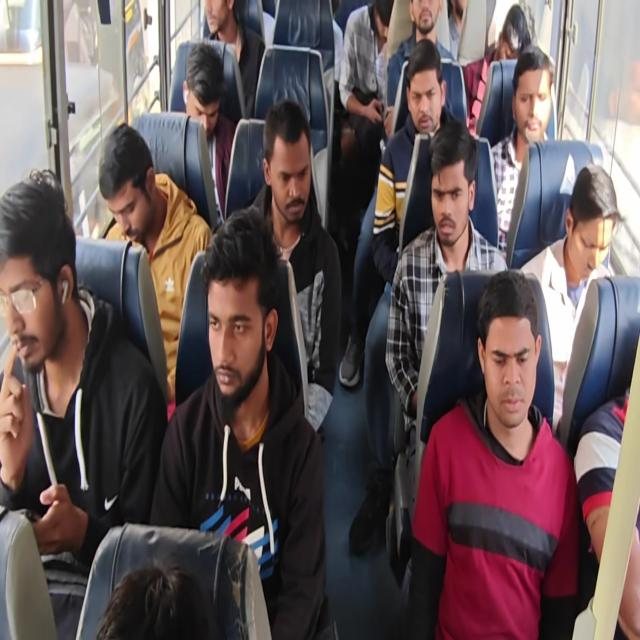person: (198, 216, 280, 414), (3, 171, 81, 373), (94, 544, 255, 640), (470, 271, 551, 429), (92, 118, 160, 245), (556, 153, 626, 270), (257, 100, 314, 228), (424, 124, 475, 260), (401, 36, 449, 153), (506, 37, 558, 140), (185, 53, 225, 139), (498, 0, 534, 68), (202, 0, 232, 39), (369, 5, 397, 39), (410, 3, 444, 30)
